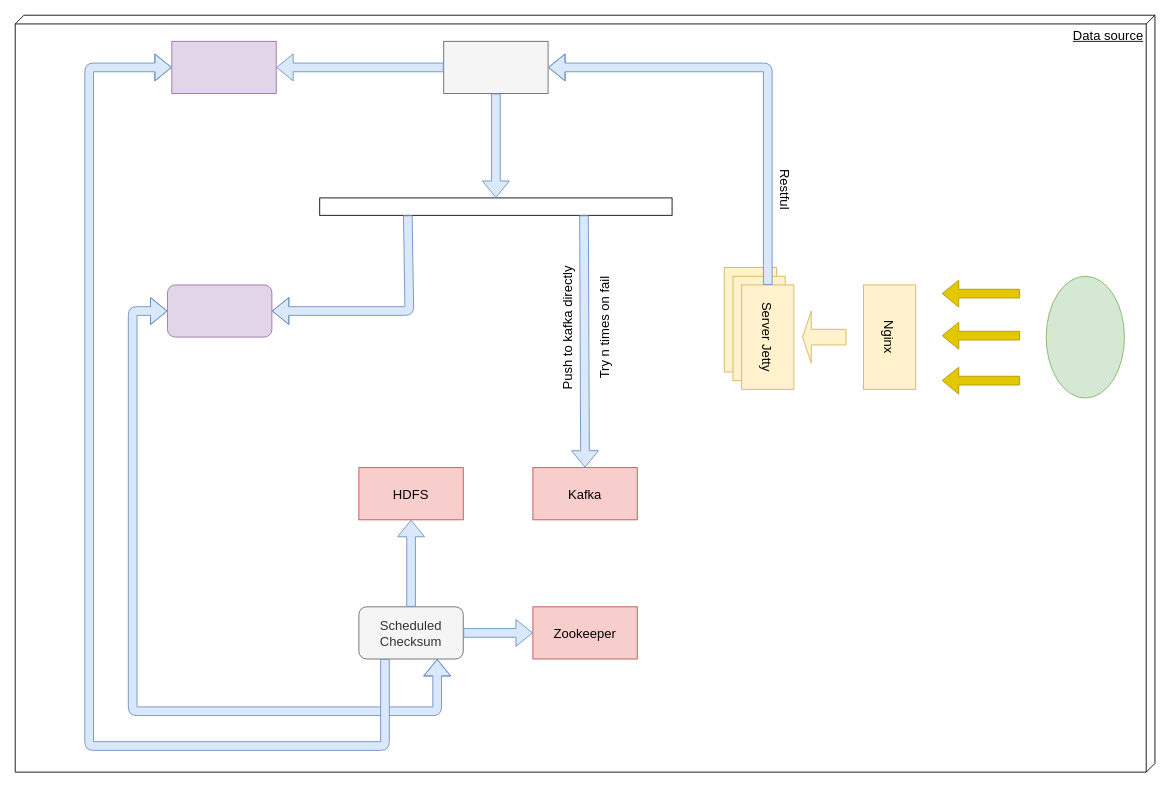
Image size: 1170x787. Some labels were removed from this diagram. Each missing label, with the box of its shape:
Local files: (167, 284, 272, 337)
Logging: (171, 40, 276, 94)
Scraper: (443, 40, 548, 94)
Tiki Lazada Shopee ...: (1045, 275, 1124, 398)
